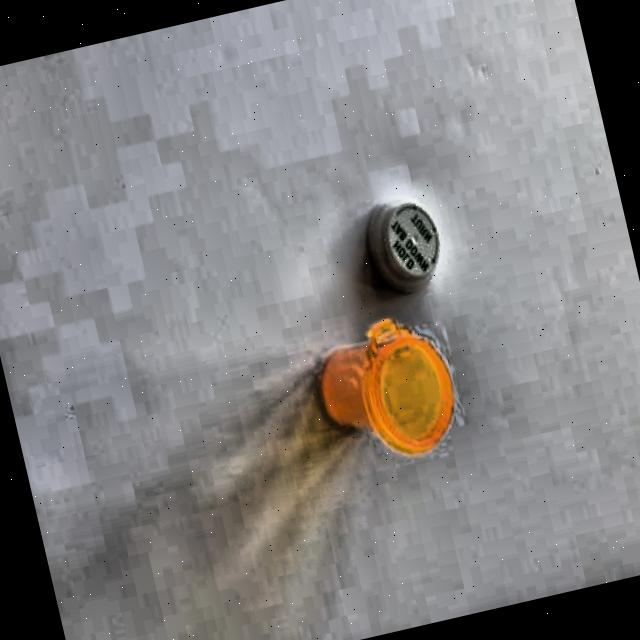plastic: (304, 304, 470, 474), (357, 189, 449, 294)
